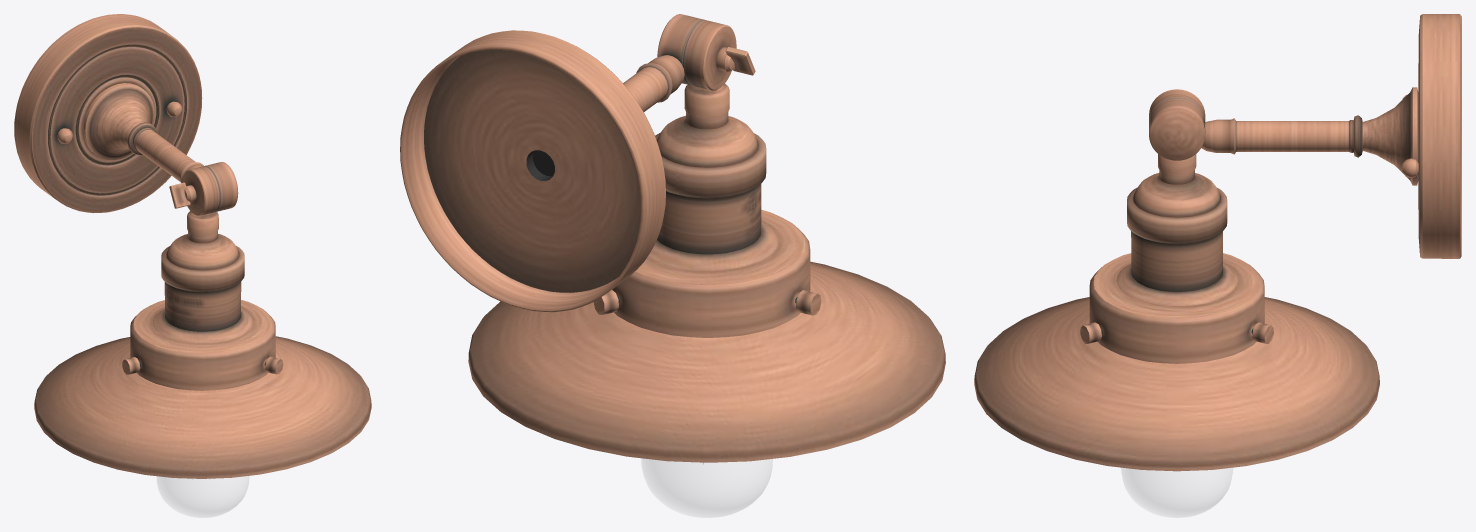
Rendered from khronos-anisotropy-barn-lamp.glb.
3 views of the same model, side by side, from view 1: azimuth 30°, elevation 25°; view 2: azimuth 150°, elevation 25°; view 3: azimuth 270°, elevation 25° (orthographic). The views are drawn at different scales.
Parts seen in each view (by area): view 1: Lamp Metal, Lamp Glass; view 2: Lamp Metal, Lamp Glass; view 3: Lamp Metal, Lamp Glass.
Boxes of the visible parts, bbox=[...] form: Lamp Metal: bbox=[14, 14, 371, 479]; Lamp Glass: bbox=[157, 476, 249, 517]; Lamp Metal: bbox=[400, 14, 945, 464]; Lamp Glass: bbox=[641, 458, 772, 517]; Lamp Metal: bbox=[974, 14, 1461, 471]; Lamp Glass: bbox=[1121, 468, 1232, 517].
Size of the model in its own units: 0.1908 by 0.2552 by 0.2265.
3 materials, 1 textured.
